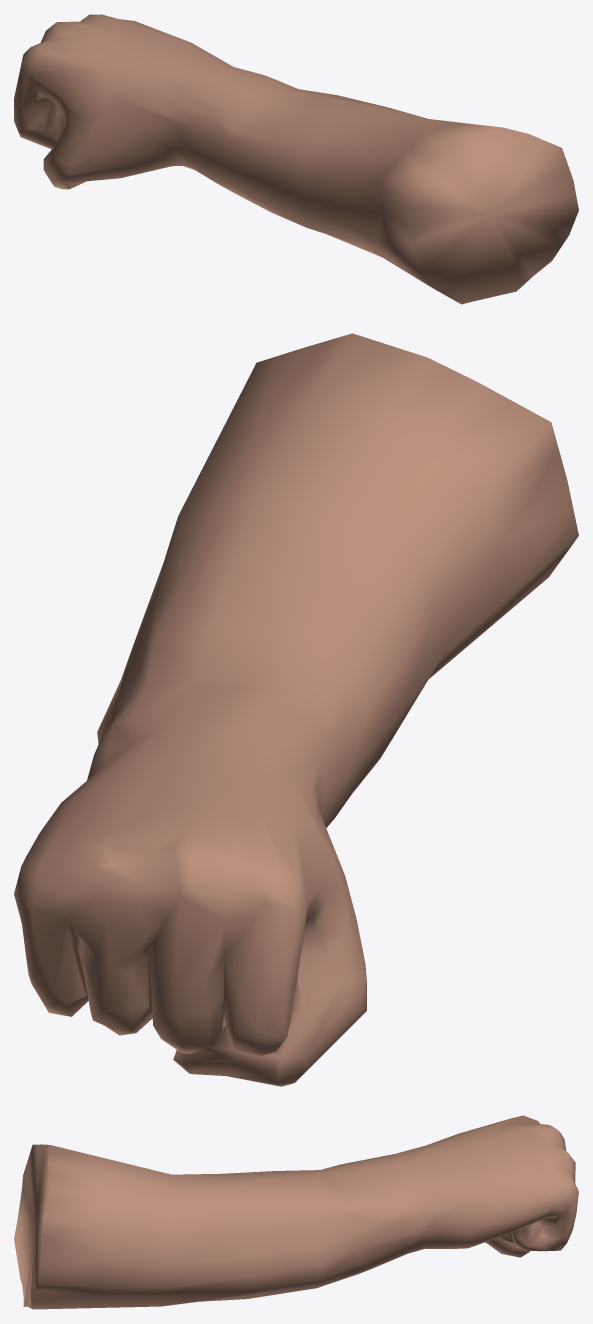
File: onearm2.dae
3 views of the same model, one above another, from view 1: azimuth 30°, elevation 25°; view 2: azimuth 150°, elevation 25°; view 3: azimuth 270°, elevation 25° (orthographic). The views are drawn at different scales.
Parts seen in each view (by area): view 1: arm; view 2: arm; view 3: arm.
Part boxes in pixels (left/top/right/bottom): arm: left=14, top=14, right=578, bottom=304; arm: left=14, top=333, right=578, bottom=1086; arm: left=14, top=1115, right=578, bottom=1309.
Bounding box in the file's own units: 15.01 × 9.08 × 26.34.
